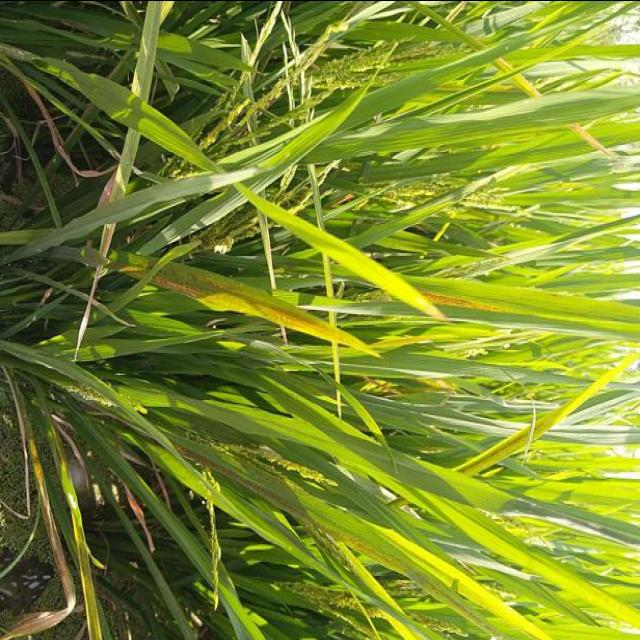Leaf Streak: (175, 443, 552, 640), (149, 272, 330, 326), (459, 424, 530, 475), (425, 294, 521, 313), (103, 249, 154, 278), (531, 409, 564, 442)
